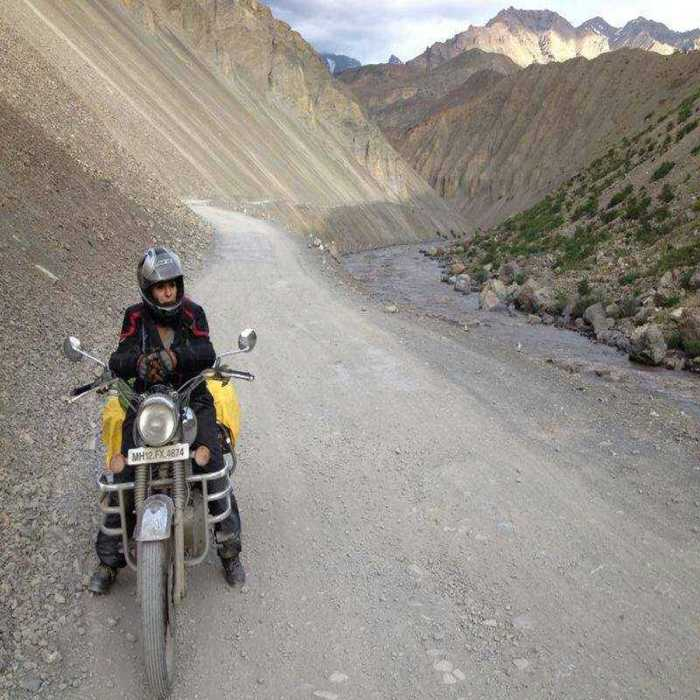h: (135, 245, 187, 330)
n: (125, 442, 191, 466)
